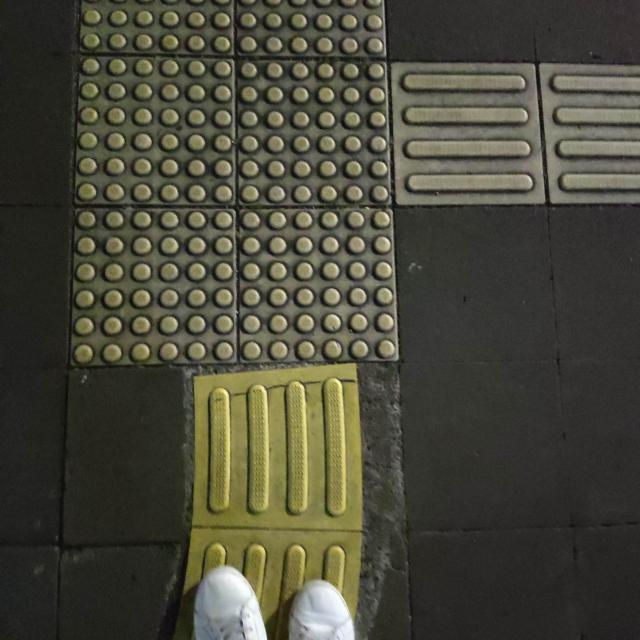kanan: (98, 15, 627, 463)
